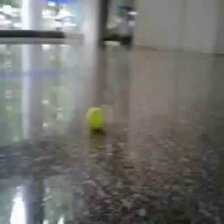tennis: (86, 106, 105, 129)
